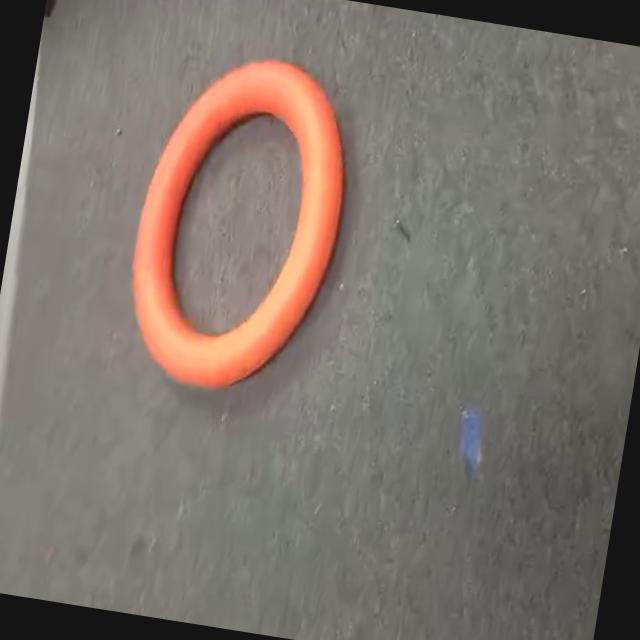note: (105, 37, 376, 424)
